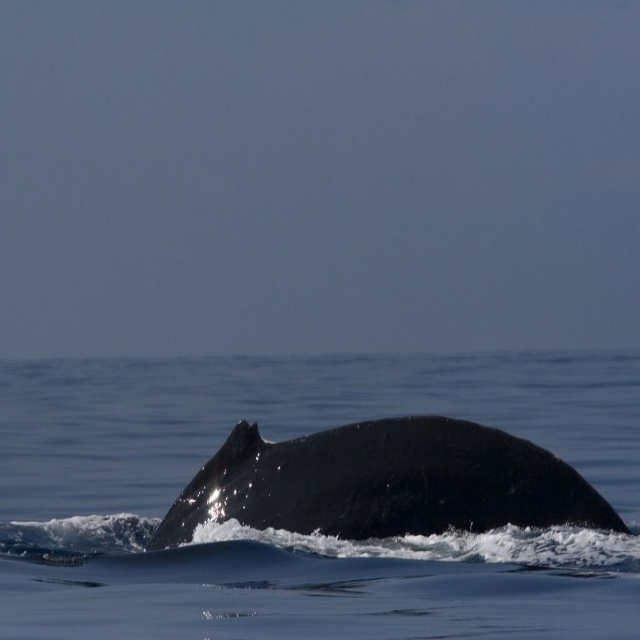Whale: (142, 414, 632, 551)
